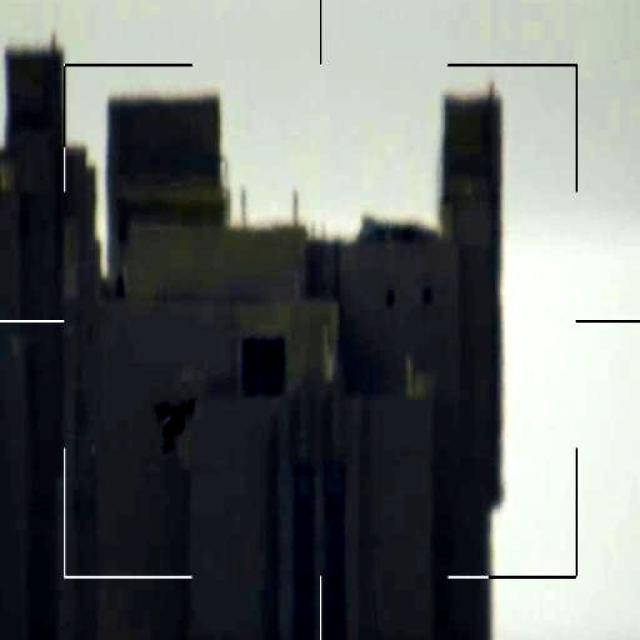bird: (144, 395, 205, 458)
